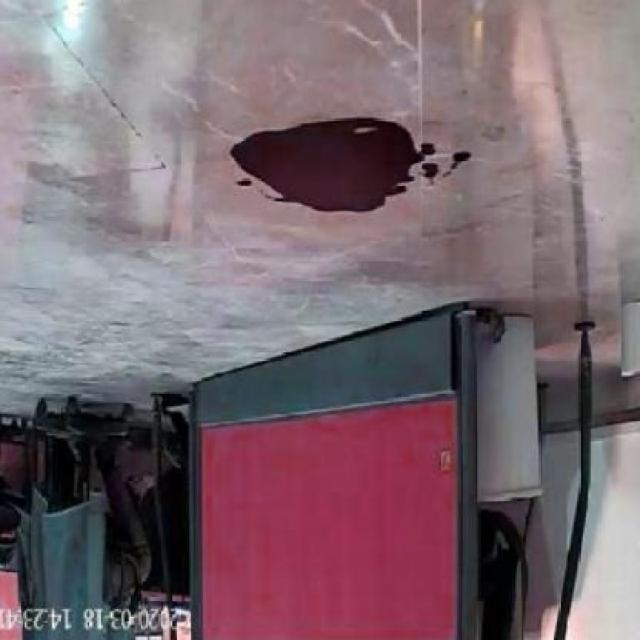spillage: (231, 113, 485, 216)
